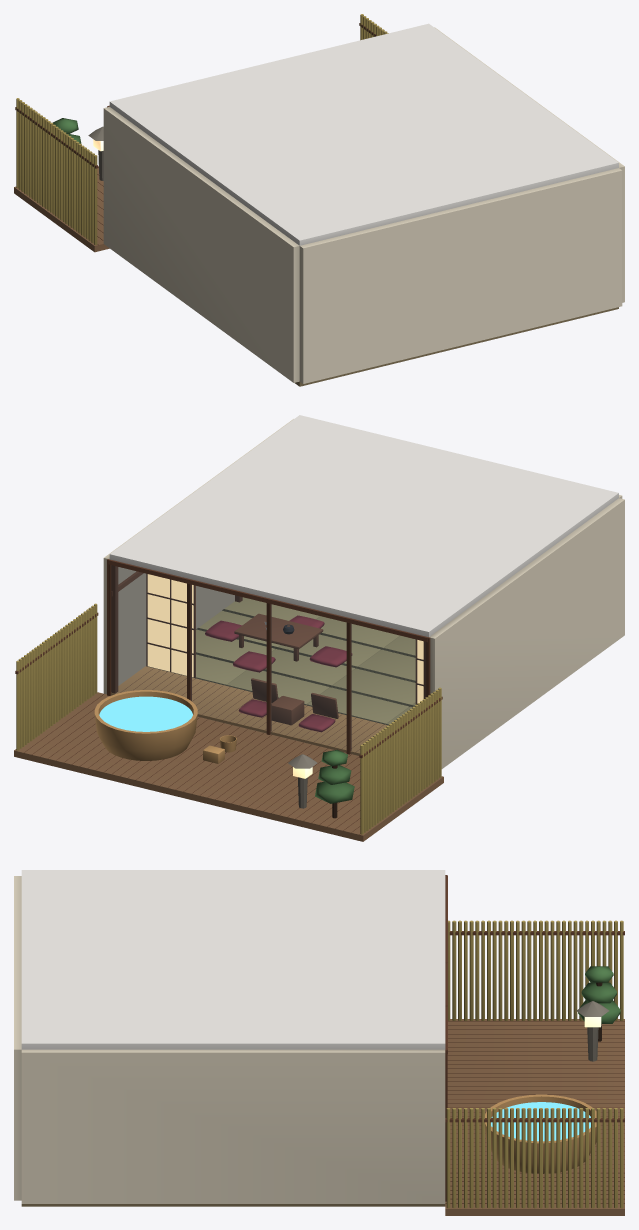
The model's file is hk-onsen.glb.
The picture shows the model from 3 angles, top to bottom: view 1: azimuth 30°, elevation 25°; view 2: azimuth 150°, elevation 25°; view 3: azimuth 270°, elevation 25°; orthographic projection. The views are drawn at different scales.
Parts seen in each view (by area): view 1: Room_plaster, Room_ceiling, Room_bamboo, Room_deck, Room_subfloor; view 2: Room_ceiling, Room_glass, Room_plaster, Room_deck, Room_bamboo, Room_hinokiDark, Room_tatami, Room_hinoki, Room_washi, Room_zabuton, Room_water, Room_leaf (+2 smaller); view 3: Room_ceiling, Room_plaster, Room_bamboo, Room_deck, Room_hinokiDark, Room_hinoki, Room_water, Room_leaf, Room_subfloor, Room_rock.
Boxes of the visible parts, x1,y1,x2,y2 form: Room_plaster: (103, 27, 624, 383); Room_ceiling: (109, 23, 618, 245); Room_bamboo: (16, 14, 388, 244); Room_deck: (14, 166, 109, 252); Room_subfloor: (295, 307, 618, 386); Room_ceiling: (109, 415, 618, 637); Room_glass: (115, 567, 423, 752); Room_plaster: (103, 419, 624, 768); Room_deck: (14, 692, 443, 841); Room_bamboo: (16, 603, 441, 834); Room_hinokiDark: (15, 559, 442, 834); Room_tatami: (196, 597, 415, 724); Room_hinoki: (94, 666, 388, 763); Room_washi: (147, 574, 423, 778); Room_zabuton: (205, 615, 352, 732); Room_water: (99, 696, 192, 731); Room_leaf: (315, 749, 354, 803); Room_ceiling: (21, 870, 445, 1049); Room_plaster: (14, 876, 445, 1203); Room_bamboo: (446, 920, 623, 1208); Room_deck: (445, 1019, 624, 1215); Room_hinokiDark: (445, 875, 624, 1203); Room_hinoki: (485, 1094, 596, 1173); Room_water: (491, 1102, 590, 1141); Room_leaf: (578, 966, 620, 1023); Room_subfloor: (21, 1204, 445, 1206); Room_rock: (576, 1001, 609, 1061).
Size of the model in its own units: 7 by 2.82 by 9.52.
